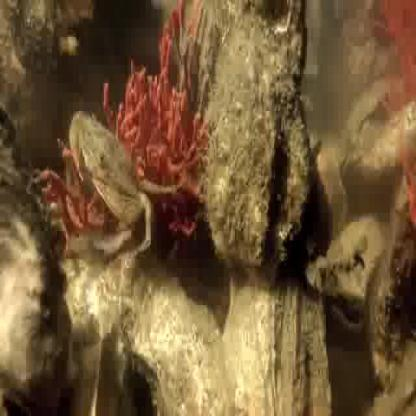Oyster- Indeterminate: (211, 0, 308, 270)
Oyster-Closed: (0, 129, 67, 415), (0, 106, 15, 141)
Oyster-Open: (0, 385, 34, 416)
